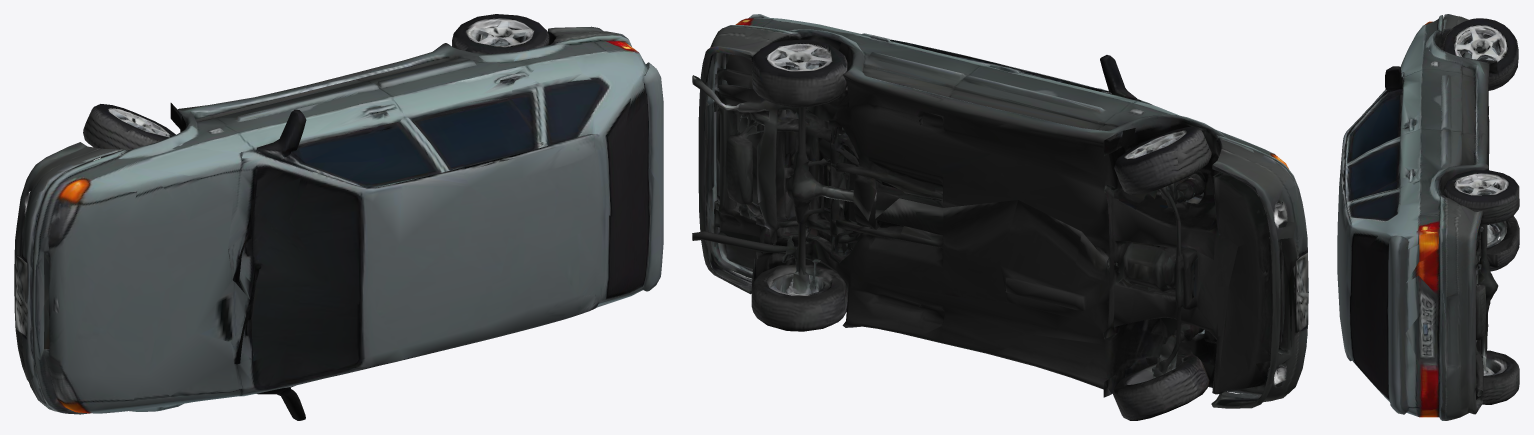
The model's file is vaz14.glb.
3 renders of one model, left to right at view 1: azimuth 30°, elevation 25°; view 2: azimuth 150°, elevation 25°; view 3: azimuth 270°, elevation 25°, orthographic. The views are drawn at different scales.
Parts seen in each view (by area): view 1: vaz14; view 2: vaz14; view 3: vaz14.
Part boxes in pixels (left/top/right/bottom): vaz14: left=14, top=14, right=663, bottom=420; vaz14: left=692, top=14, right=1308, bottom=420; vaz14: left=1337, top=14, right=1519, bottom=420.
Size of the model in its own units: 4.12 by 1.99 by 1.35.
Materials: 1 (1 with a texture image).
